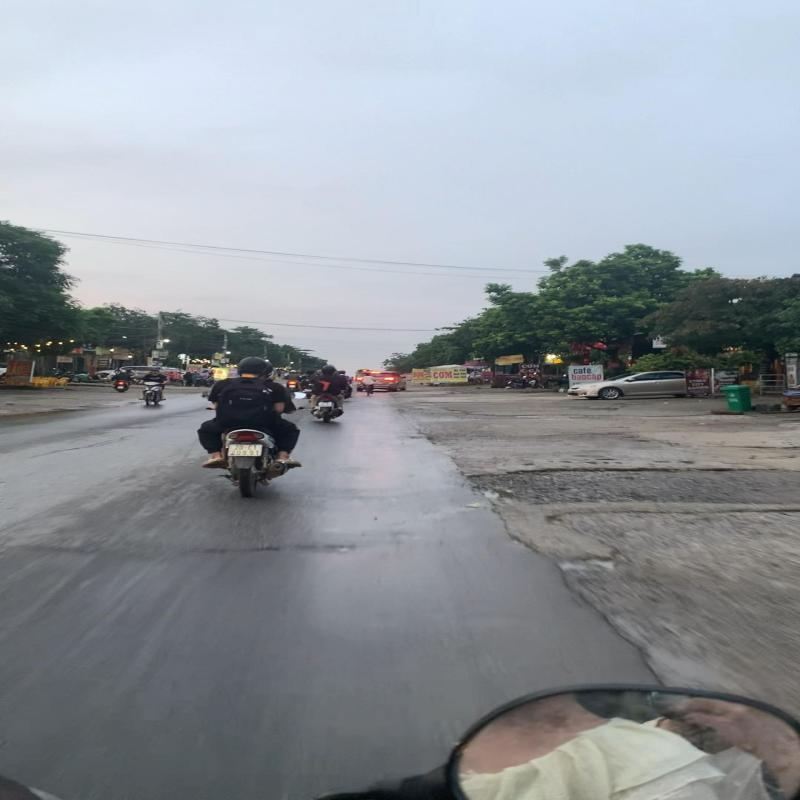helmet: (235, 356, 274, 376)
licenseplate: (226, 442, 264, 458)
motorcyclist: (191, 352, 310, 500)
